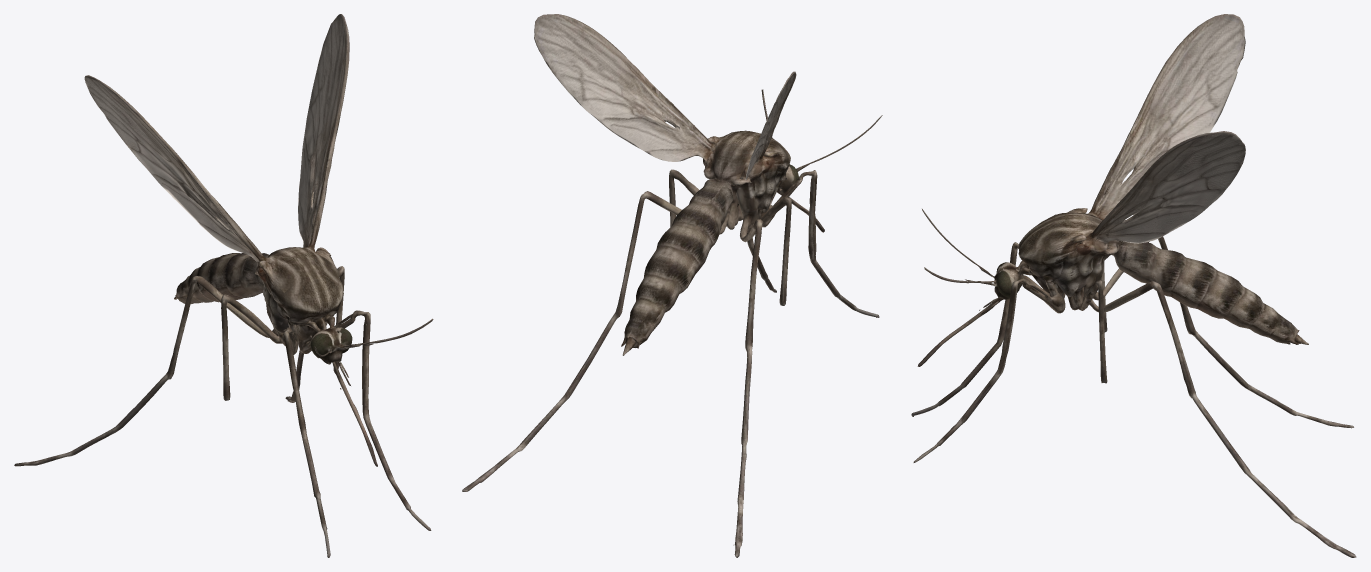
Rendered from Zumbador.glb.
The picture shows the model from 3 angles, left to right: view 1: azimuth 30°, elevation 25°; view 2: azimuth 150°, elevation 25°; view 3: azimuth 270°, elevation 25°; orthographic projection. The views are drawn at different scales.
Visible parts, largest first — view 1: Mosquito; view 2: Mosquito; view 3: Mosquito.
Part boxes in pixels (x1,y1,x2,y2): Mosquito: (14, 14, 433, 557); Mosquito: (462, 14, 882, 557); Mosquito: (911, 14, 1356, 557).
Bounding box in the file's own units: 0.0669 × 0.1 × 0.096.
Materials: 1 (1 with a texture image).
